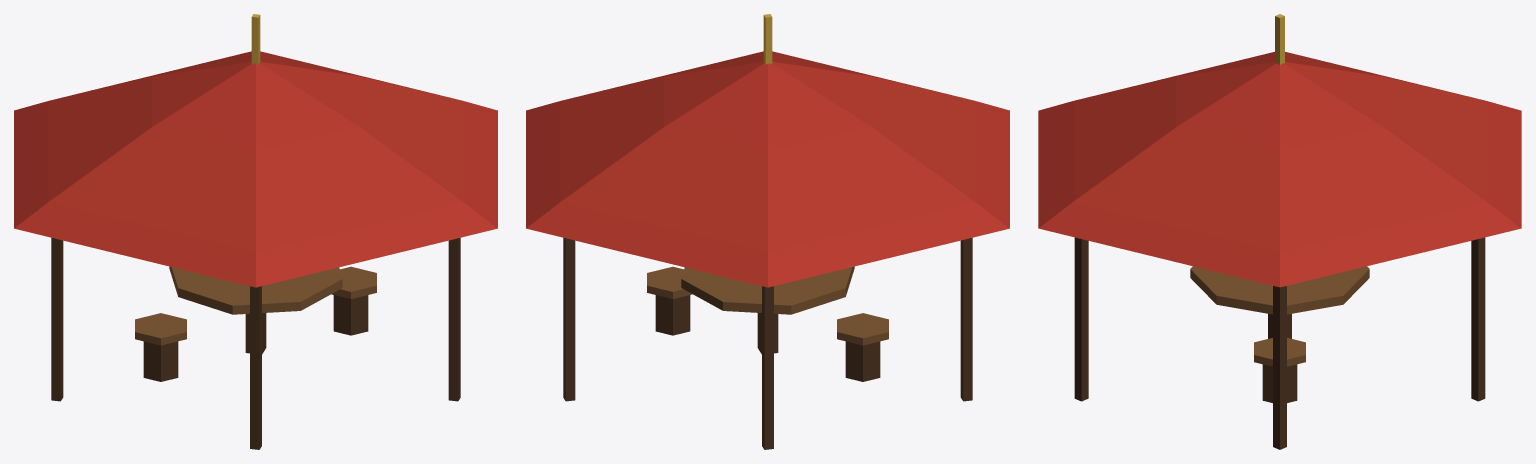
The model's file is tent_round_awning.fbx.
The picture shows the model from 3 angles, left to right: view 1: azimuth 30°, elevation 25°; view 2: azimuth 150°, elevation 25°; view 3: azimuth 270°, elevation 25°; orthographic projection.
Visible parts, largest first — view 1: tent_round_awning; view 2: tent_round_awning; view 3: tent_round_awning.
Boxes of the visible parts, x1,y1,x2,y2 form: tent_round_awning: (14, 14, 497, 449); tent_round_awning: (526, 14, 1009, 449); tent_round_awning: (1038, 14, 1521, 449).
Bounding box in the file's own units: 5.6 × 3.7 × 4.85.
1 material, 1 textured.
